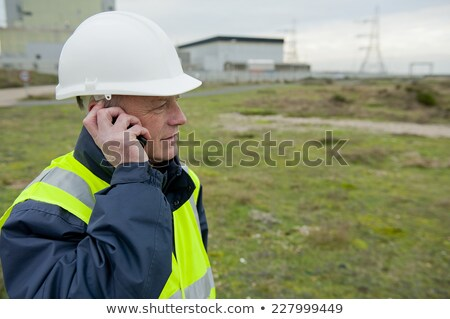phone: (80, 98, 152, 165)
talk: (79, 96, 187, 165)
